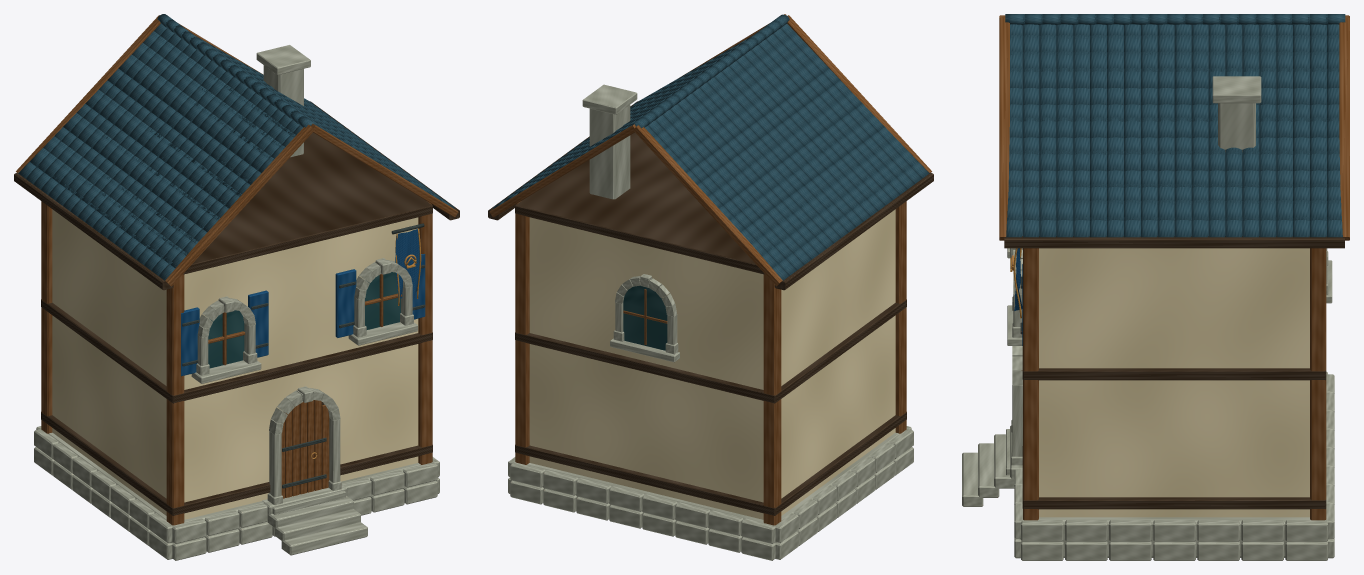
File: hill_watchpost.glb
3 views of the same model, side by side, from view 1: azimuth 30°, elevation 25°; view 2: azimuth 150°, elevation 25°; view 3: azimuth 270°, elevation 25° (orthographic). The views are drawn at different scales.
Visible parts, largest first — view 1: hill_watchpost; view 2: hill_watchpost; view 3: hill_watchpost.
Part boxes in pixels (bbox=[...]): hill_watchpost: bbox=[14, 14, 459, 560]; hill_watchpost: bbox=[488, 14, 933, 560]; hill_watchpost: bbox=[962, 14, 1349, 560].
Size of the model in its own units: 6.64 by 8.76 by 6.54.
1 material, 1 textured.
